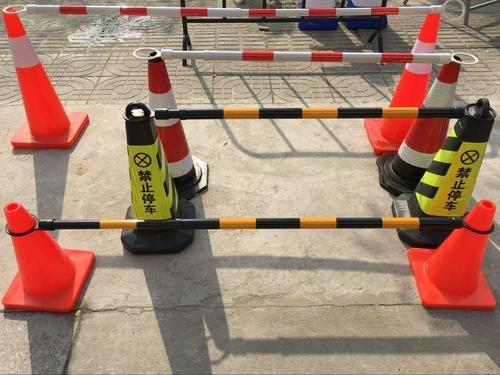cone_barrel: (377, 55, 460, 194), (411, 97, 496, 224), (366, 11, 443, 151), (2, 8, 74, 148), (116, 99, 183, 246), (1, 199, 78, 309), (423, 193, 498, 304), (141, 51, 196, 188)
